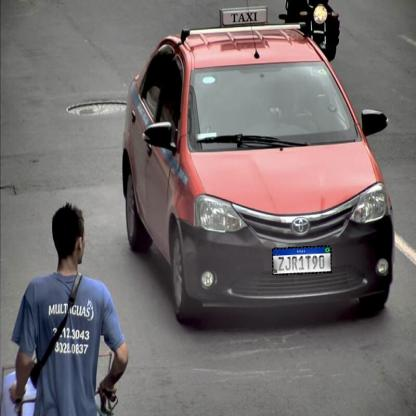PlacaM: (272, 246, 332, 276)
